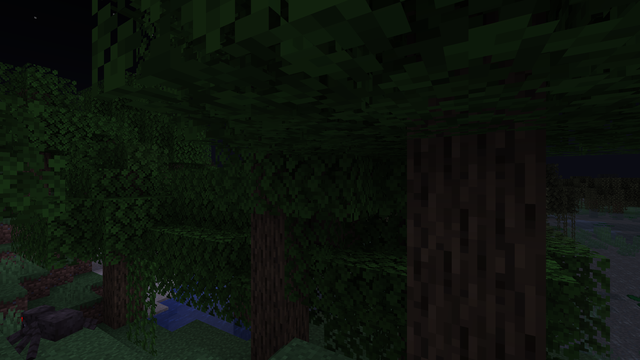araignees: (4, 294, 89, 355)
